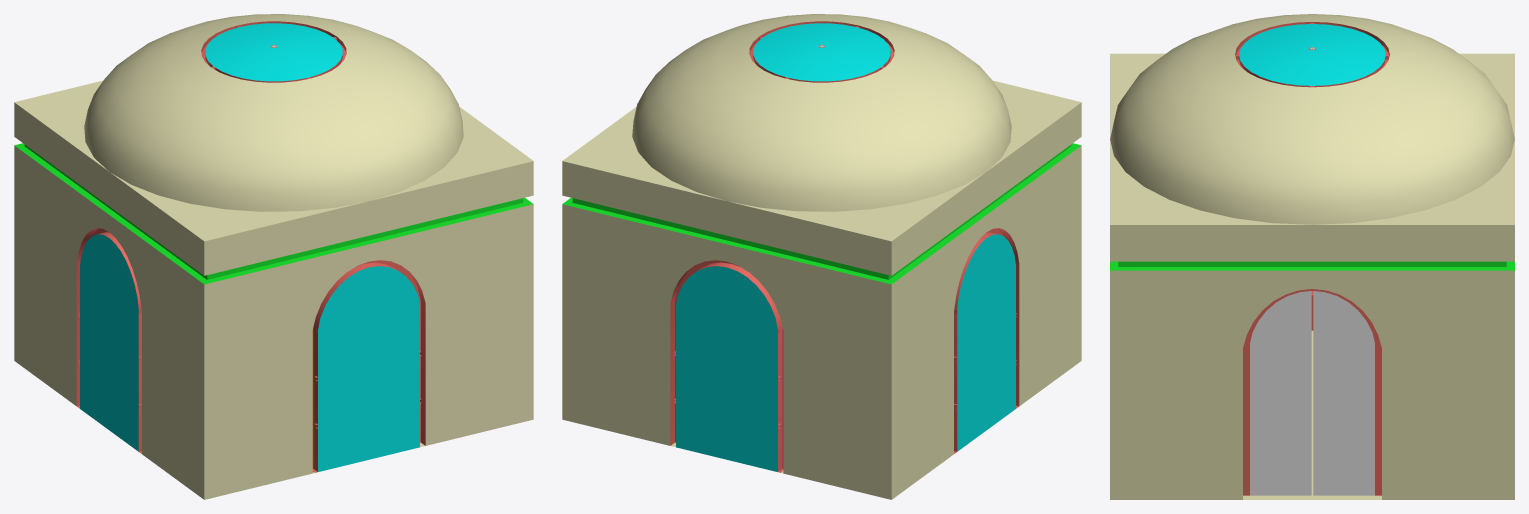
File: room.fbx
3 renders of one model, left to right at view 1: azimuth 30°, elevation 25°; view 2: azimuth 150°, elevation 25°; view 3: azimuth 270°, elevation 25°, orthographic. The views are drawn at different scales.
Visible parts, largest first — view 1: Walls, Roof; view 2: Walls, Roof; view 3: Walls, Roof, Floor.
Boxes of the visible parts, x1,y1,x2,y2 form: Walls: [14, 102, 533, 499]; Roof: [14, 14, 532, 241]; Walls: [562, 102, 1081, 499]; Roof: [563, 14, 1081, 241]; Walls: [1110, 225, 1514, 499]; Roof: [1110, 14, 1514, 224]; Floor: [1243, 330, 1381, 499].
Bounding box in the file's own units: 400 × 399 × 400.
